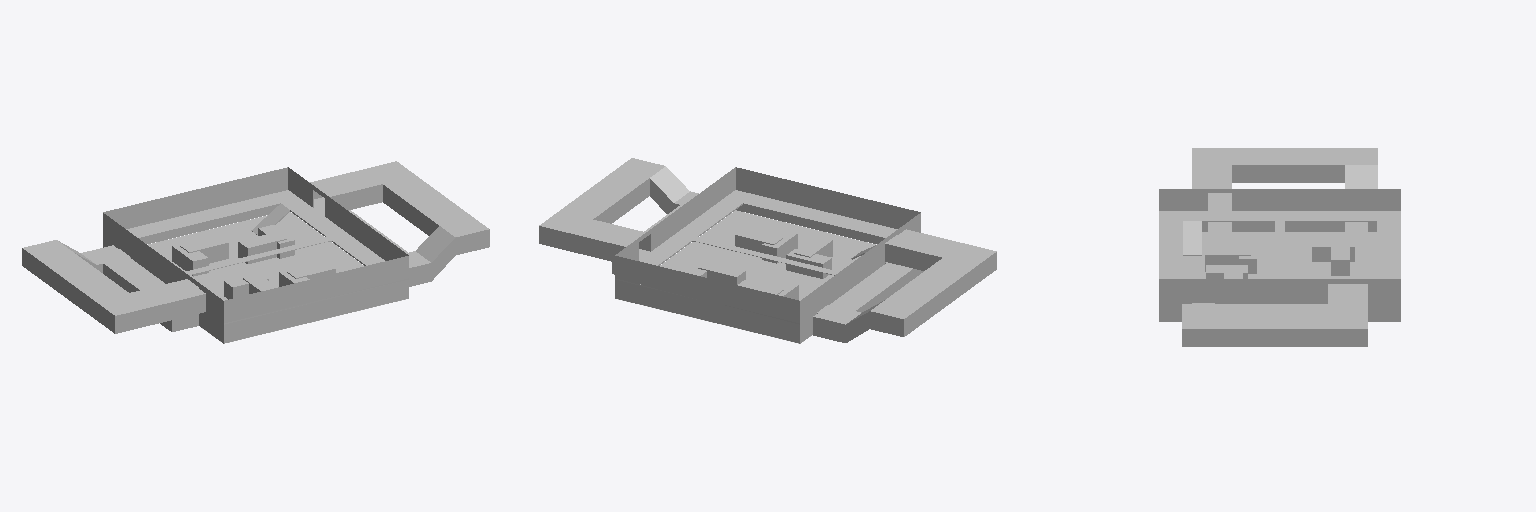
Rendered from arena.obj.
The picture shows the model from 3 angles: view 1: azimuth 30°, elevation 25°; view 2: azimuth 150°, elevation 25°; view 3: azimuth 270°, elevation 25°; orthographic projection.
Visible parts, largest first — view 1: Plane002, Object038, Object039, Box024, Box021, Object040, Box020; view 2: Plane002, Object038, Object039, Object040, Box028, Box024, Box025, Box027, Box026; view 3: Plane002, Object039, Object038, Object041, Box026, Box021, Object044, Box020, Object040.
Part boxes in pixels (left/top/right/bottom): Plane002: left=22, top=161, right=489, bottom=343; Object038: left=148, top=212, right=405, bottom=342; Object039: left=126, top=190, right=384, bottom=265; Box024: left=238, top=232, right=286, bottom=263; Box021: left=180, top=236, right=228, bottom=263; Object040: left=185, top=237, right=331, bottom=275; Box020: left=172, top=242, right=208, bottom=276; Plane002: left=539, top=158, right=996, bottom=343; Object038: left=618, top=210, right=875, bottom=343; Object039: left=639, top=190, right=897, bottom=284; Object040: left=692, top=237, right=838, bottom=275; Box028: left=735, top=228, right=782, bottom=252; Box024: left=698, top=261, right=745, bottom=284; Box025: left=786, top=249, right=831, bottom=278; Box027: left=762, top=229, right=797, bottom=263; Box026: left=794, top=236, right=832, bottom=257; Plane002: left=1159, top=148, right=1400, bottom=346; Object039: left=1159, top=211, right=1400, bottom=278; Object038: left=1183, top=232, right=1376, bottom=278; Object041: left=1208, top=193, right=1367, bottom=231; Box026: left=1205, top=247, right=1250, bottom=271; Box021: left=1331, top=241, right=1349, bottom=275; Object044: left=1183, top=221, right=1201, bottom=255; Box020: left=1312, top=239, right=1354, bottom=261; Object040: left=1275, top=221, right=1284, bottom=278.
Bounding box in the file's own units: 61.65 × 7.04 × 34.89.